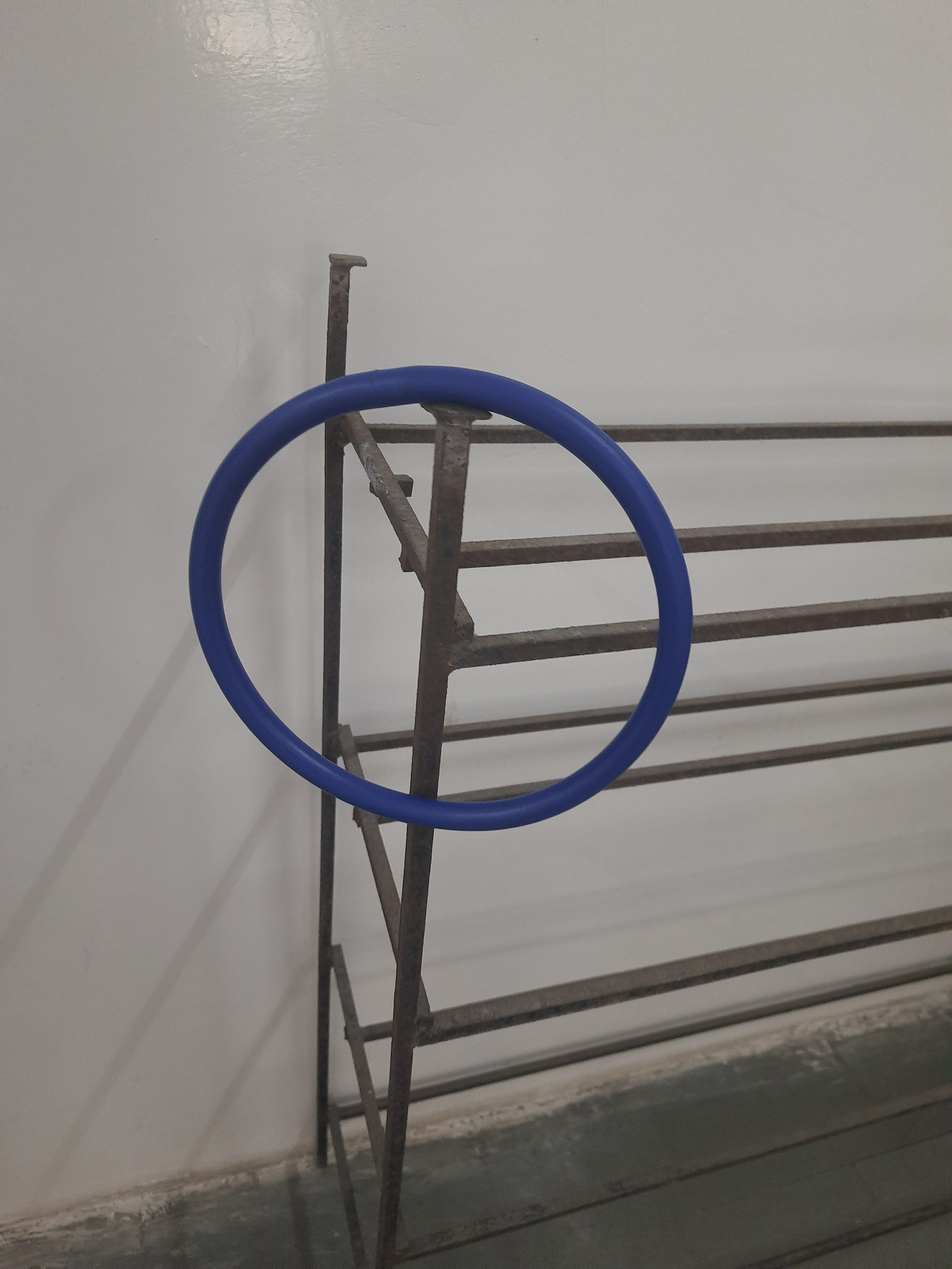Blue ring: (180, 366, 700, 840)
